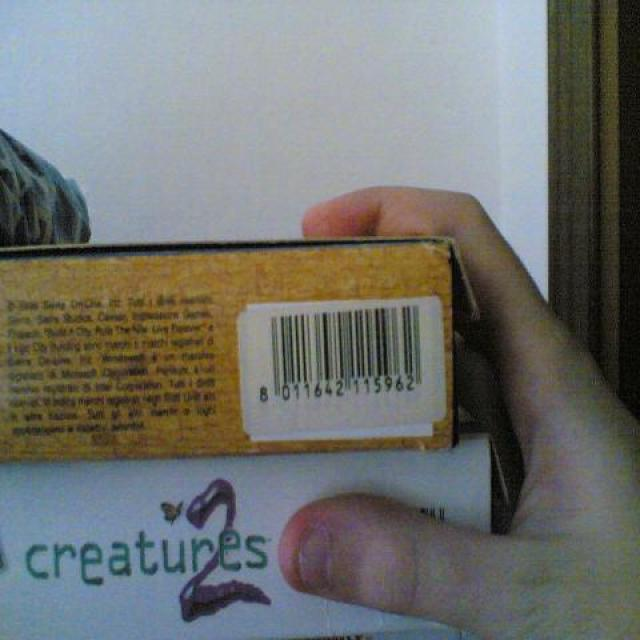Barcode: (252, 300, 440, 412)
